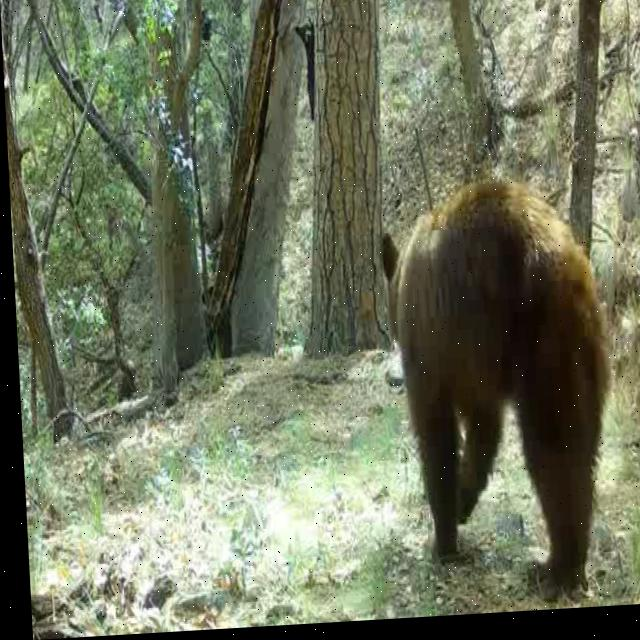bear face: (374, 175, 614, 600), (296, 22, 318, 120)
